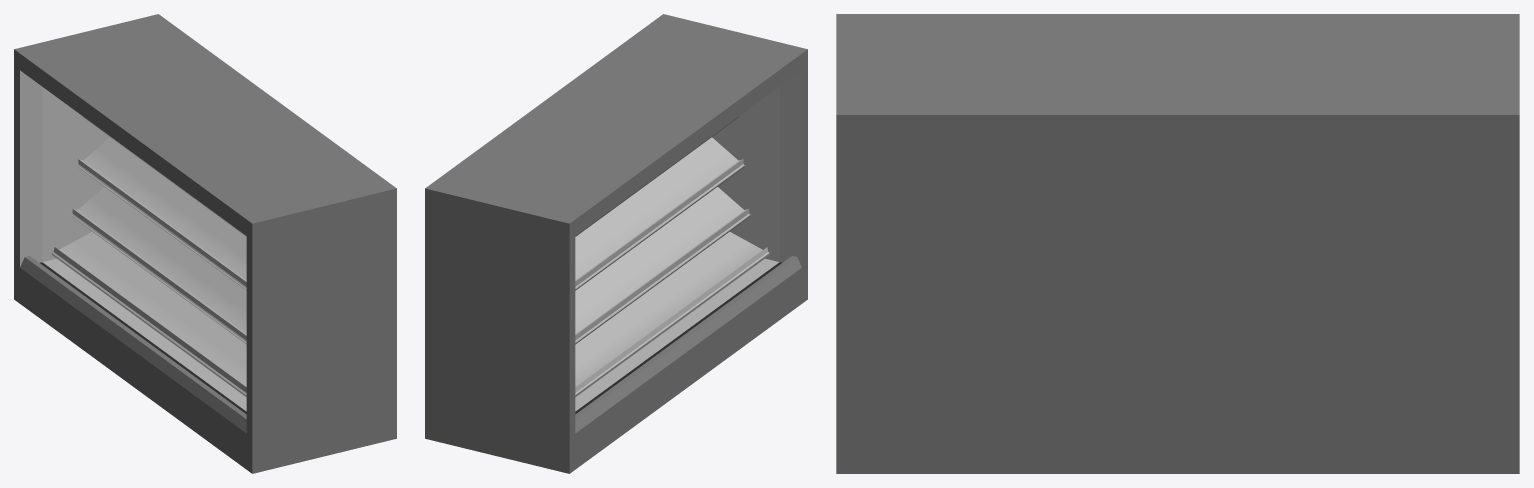
The model's file is WallFreezer.fbx.
3 renders of one model, left to right at view 1: azimuth 30°, elevation 25°; view 2: azimuth 150°, elevation 25°; view 3: azimuth 270°, elevation 25°, orthographic. The views are drawn at different scales.
Parts seen in each view (by area): view 1: WallFreezer; view 2: WallFreezer; view 3: WallFreezer.
Boxes of the visible parts, left/top/right/bottom form: WallFreezer: left=14, top=14, right=396, bottom=473; WallFreezer: left=425, top=14, right=807, bottom=473; WallFreezer: left=836, top=14, right=1519, bottom=473.
Size of the model in its own units: 128 by 213 by 367.
